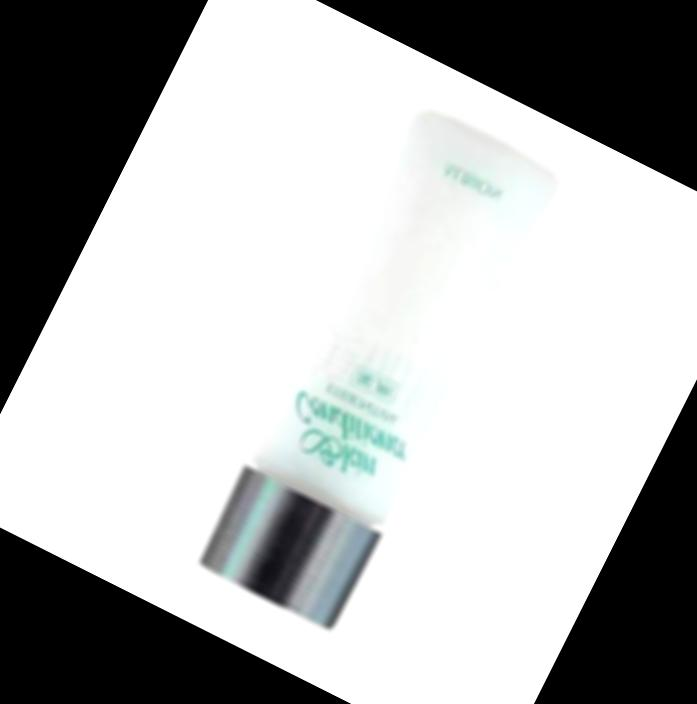cosmetic: (186, 101, 564, 636)
